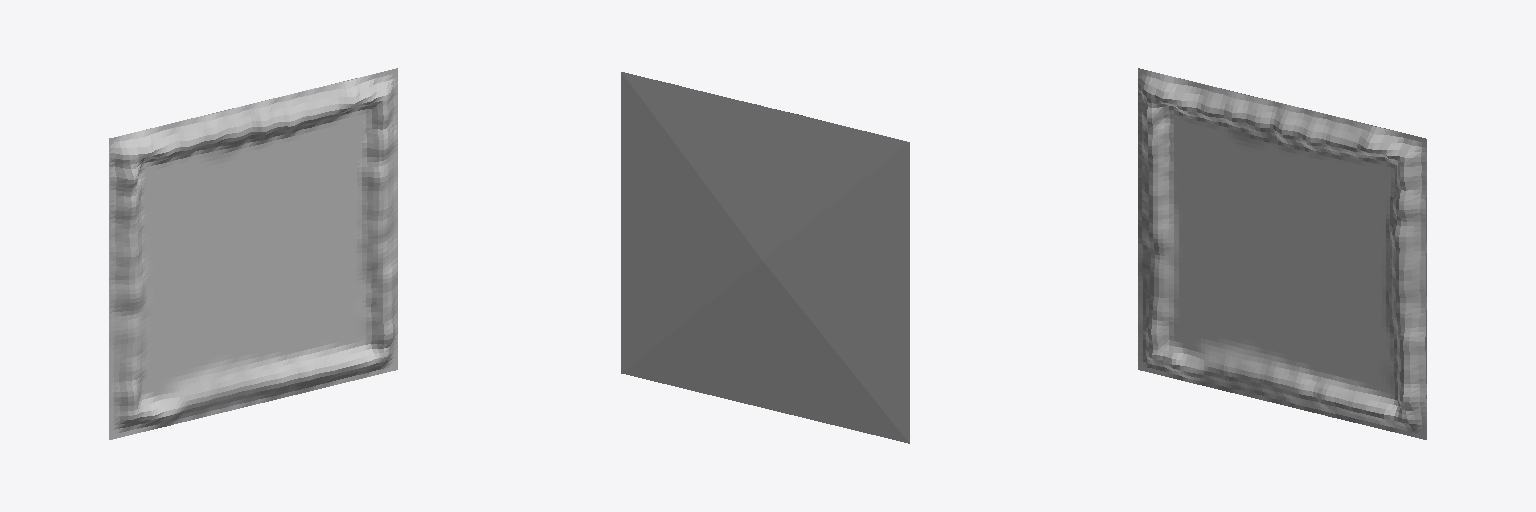
File: ground3g.obj
The picture shows the model from 3 angles: view 1: azimuth 30°, elevation 25°; view 2: azimuth 150°, elevation 25°; view 3: azimuth 330°, elevation 25°; orthographic projection.
Visible parts, largest first — view 1: ground2.003, ground14.001, ground7.002, ground6, ground6.002, ground4.003, ground10, ground5.001, ground7.003, ground5, ground10.002, ground15.001 (+28 smaller); view 2: back; view 3: ground4.003, ground14.003, ground2.003, ground7.003, ground3.002, ground12.003, ground13.003, ground15.001, ground16.002, ground13.001, ground16.003, ground7.002 (+28 smaller).
Part boxes in pixels (x1,y1,x2,y2): ground2.003: (109, 130, 152, 179); ground14.001: (254, 95, 294, 141); ground7.002: (181, 338, 217, 384); ground6: (109, 394, 152, 439); ground6.002: (109, 356, 145, 402); ground4.003: (362, 68, 397, 115); ground10: (181, 225, 217, 271); ground5.001: (181, 263, 217, 309); ground7.003: (218, 330, 253, 377); ground5: (181, 301, 217, 346); ground10.002: (181, 188, 217, 233); ground15.001: (362, 181, 397, 229); back: (621, 72, 909, 443); ground4.003: (1382, 130, 1426, 176); ground14.003: (1310, 112, 1353, 158); ground2.003: (1138, 68, 1173, 117); ground7.003: (1243, 321, 1281, 367); ground3.002: (1384, 394, 1426, 439); ground12.003: (1318, 338, 1354, 384); ground13.003: (1318, 263, 1354, 309); ground15.001: (1390, 244, 1426, 289); ground16.002: (1318, 225, 1354, 271); ground13.001: (1318, 301, 1354, 346); ground16.003: (1318, 188, 1354, 233); ground7.002: (1210, 312, 1245, 358).
Size of the model in its own units: 1000 by 1000 by 68.47.